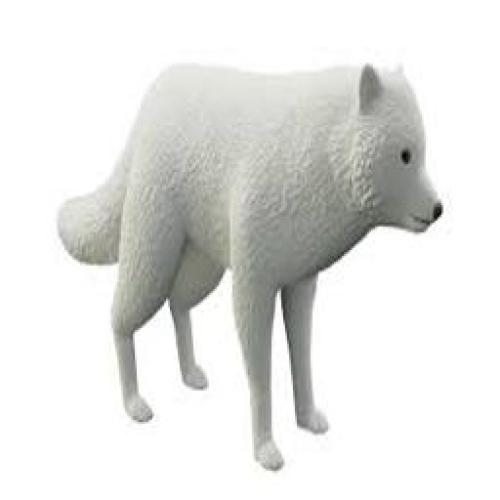arctic_fox-endangered: (63, 60, 447, 474)
